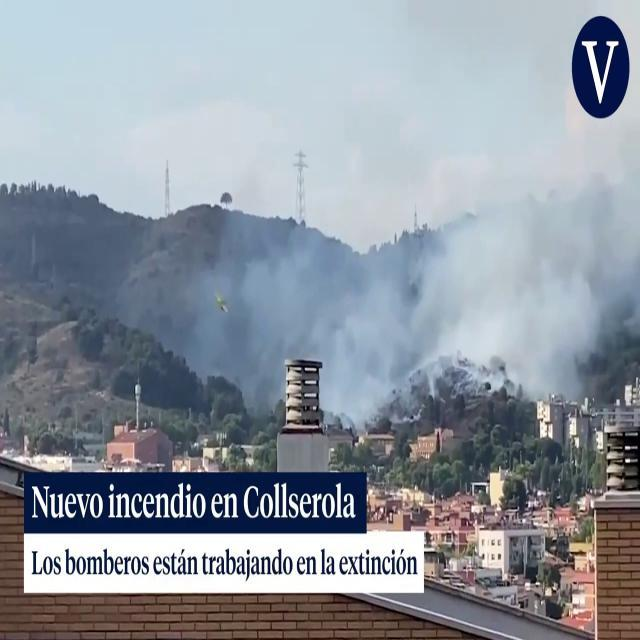Smoke: (185, 38, 640, 421)
